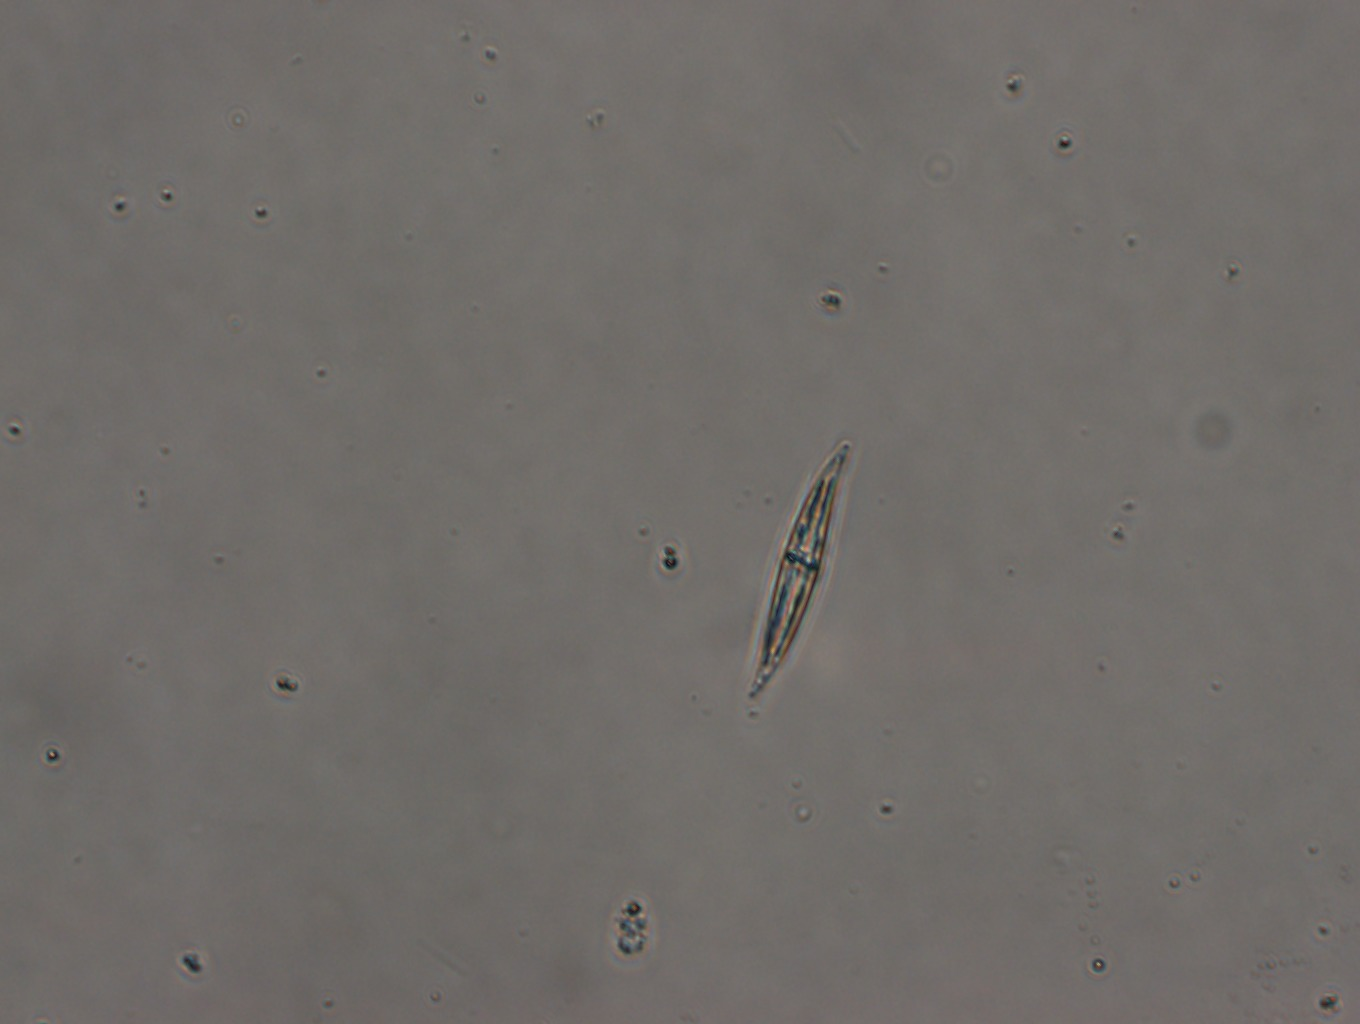pleurosigma pelagicum: (744, 433, 855, 705)
